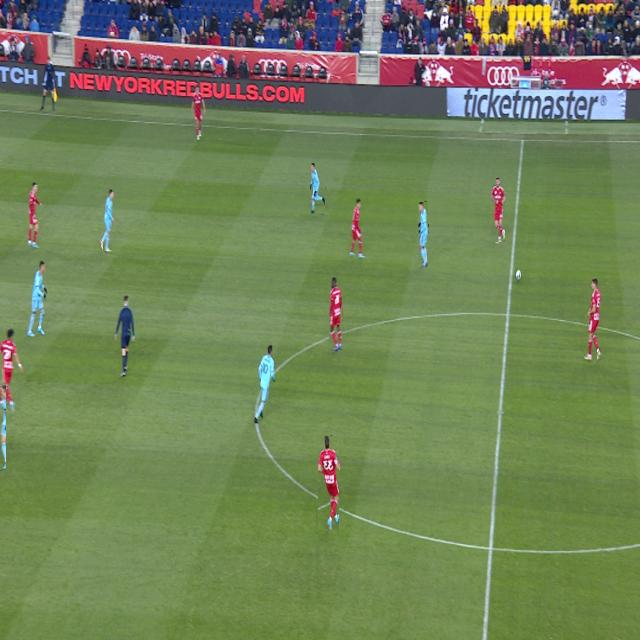football: (516, 270, 521, 281)
player: (319, 436, 339, 530), (0, 329, 23, 407), (254, 346, 275, 423), (27, 261, 47, 336), (585, 279, 601, 360), (28, 183, 42, 249), (330, 277, 342, 350), (350, 200, 365, 258), (492, 178, 505, 242), (101, 190, 114, 251), (191, 86, 205, 140), (310, 164, 325, 214), (419, 202, 428, 267), (0, 386, 6, 470)
referee: (115, 296, 135, 376)
